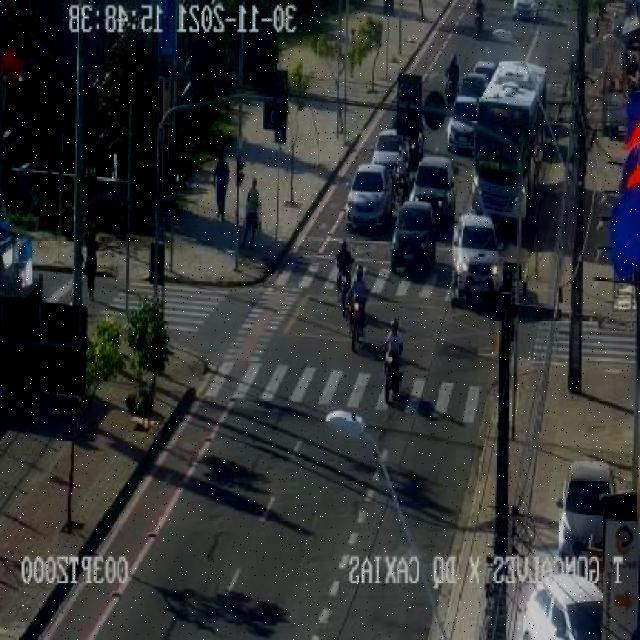Bus: (470, 60, 550, 223)
Car: (448, 217, 504, 302), (388, 199, 436, 278), (346, 165, 394, 233), (409, 158, 461, 218), (368, 132, 413, 170)
Cycle: (380, 315, 408, 407), (330, 240, 354, 316), (349, 266, 369, 352), (443, 54, 460, 108), (472, 0, 489, 35)
